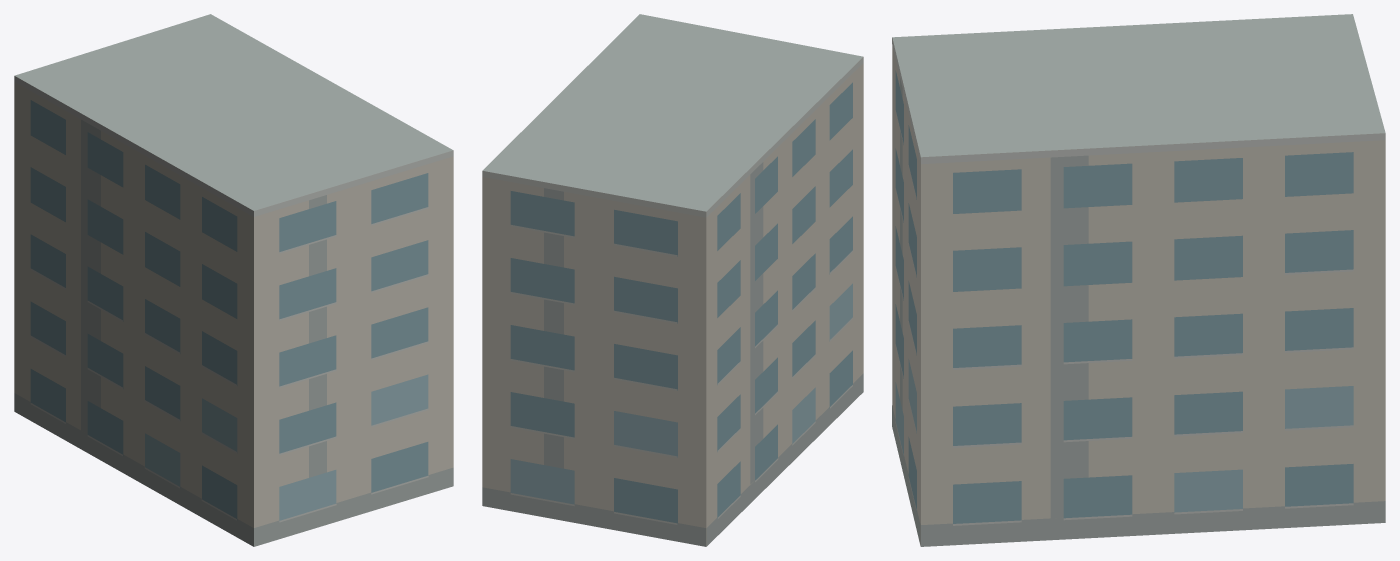
Rendered from survey-upis-32962936.glb.
The picture shows the model from 3 angles, left to right: view 1: azimuth 30°, elevation 25°; view 2: azimuth 150°, elevation 25°; view 3: azimuth 270°, elevation 25°; orthographic projection. The views are drawn at different scales.
Parts seen in each view (by area): view 1: survey-upis-32962936.tmp; view 2: survey-upis-32962936.tmp; view 3: survey-upis-32962936.tmp.
Part boxes in pixels (x1,y1,x2,y2): survey-upis-32962936.tmp: [14, 14, 453, 546]; survey-upis-32962936.tmp: [482, 14, 863, 546]; survey-upis-32962936.tmp: [892, 14, 1385, 546].
Bounding box in the file's own units: 10.65 × 13.5 × 15.5.
